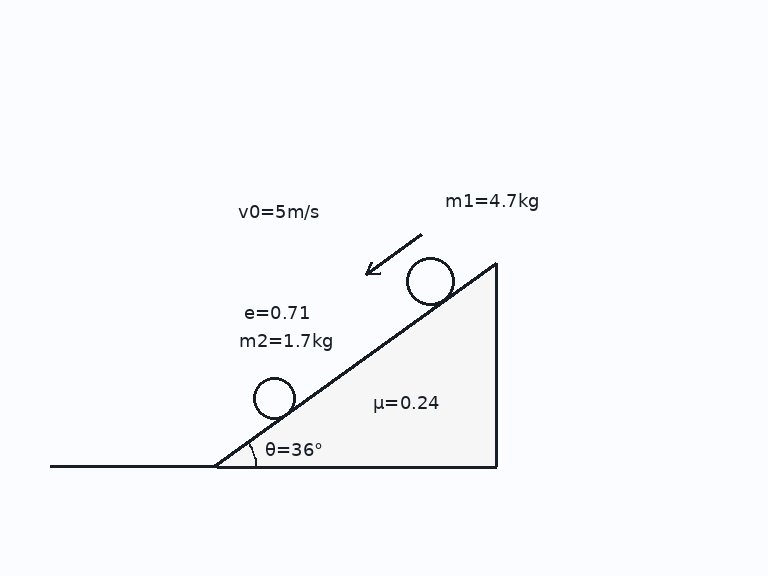ball: (404, 255, 456, 307), (251, 375, 297, 421)
ramp: (214, 261, 498, 468)
